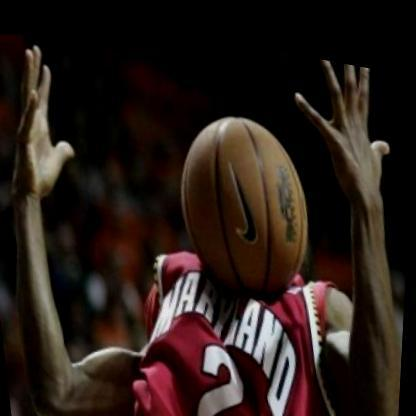basketball: (161, 84, 327, 310)
